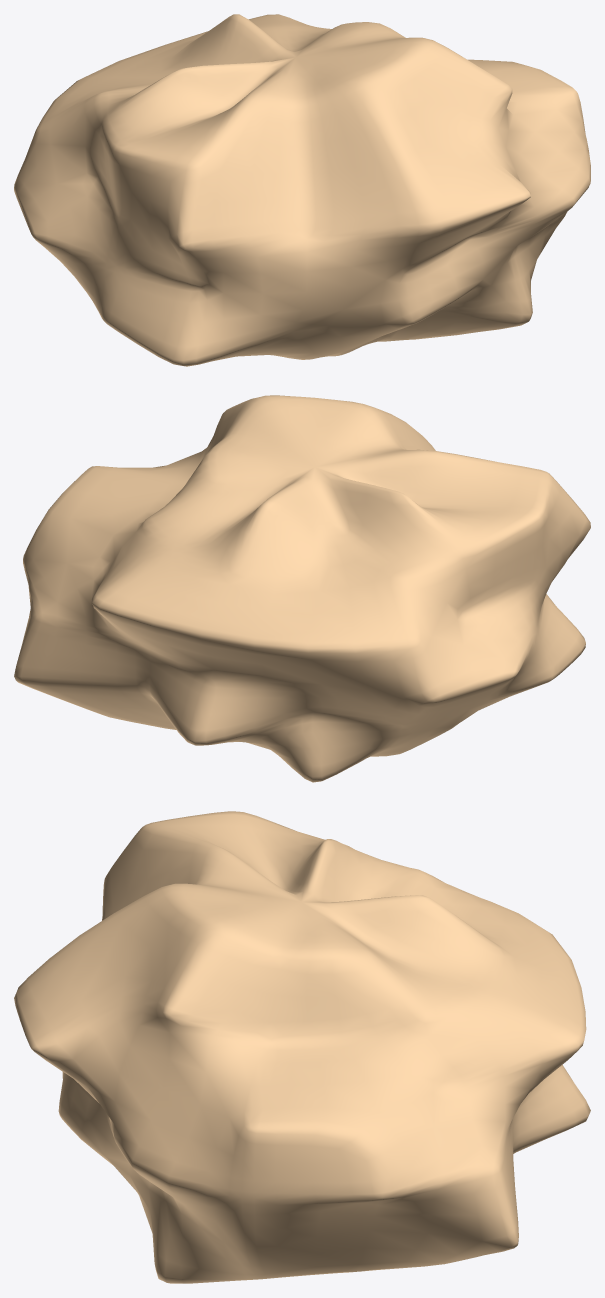
The model's file is PROP_LeafPile_v0.glb.
3 views of the same model, one above another, from view 1: azimuth 30°, elevation 25°; view 2: azimuth 150°, elevation 25°; view 3: azimuth 270°, elevation 25° (orthographic). The views are drawn at different scales.
Visible parts, largest first — view 1: PROP_LeafPile_v0; view 2: PROP_LeafPile_v0; view 3: PROP_LeafPile_v0.
Part boxes in pixels (x1,y1,x2,y2): PROP_LeafPile_v0: (14, 14, 590, 366); PROP_LeafPile_v0: (14, 395, 590, 782); PROP_LeafPile_v0: (14, 811, 590, 1283).
Bounding box in the file's own units: 0.8721 × 0.499 × 0.7771.
